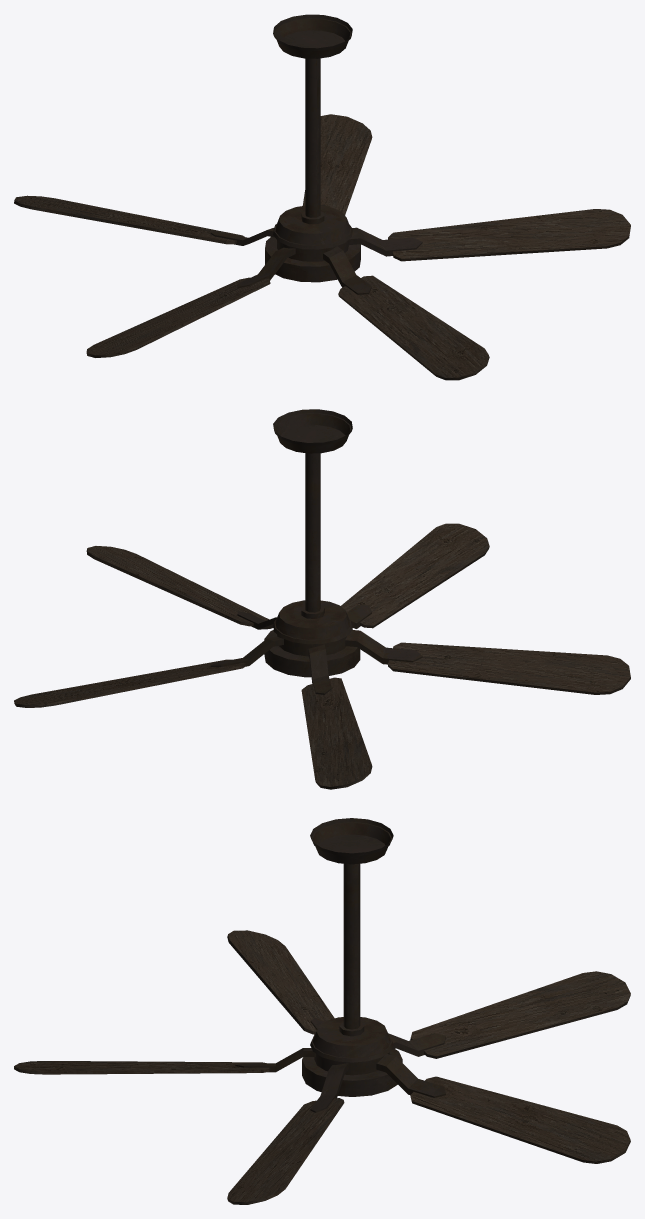
Rendered from ceiling_fan_mp_2.glb.
3 views of the same model, one above another, from view 1: azimuth 30°, elevation 25°; view 2: azimuth 150°, elevation 25°; view 3: azimuth 270°, elevation 25° (orthographic). The views are drawn at different scales.
Parts seen in each view (by area): view 1: ceiling_fan_mp_2_blades, ceiling_fan_mp_2; view 2: ceiling_fan_mp_2_blades, ceiling_fan_mp_2; view 3: ceiling_fan_mp_2_blades, ceiling_fan_mp_2.
Part boxes in pixels (<box>): ceiling_fan_mp_2_blades: <box>14,114,630,380</box>; ceiling_fan_mp_2: <box>265,14,360,282</box>; ceiling_fan_mp_2_blades: <box>14,523,630,789</box>; ceiling_fan_mp_2: <box>264,409,360,677</box>; ceiling_fan_mp_2_blades: <box>14,930,630,1204</box>; ceiling_fan_mp_2: <box>302,818,402,1096</box>.
Bounding box in the file's own units: 1.14 × 0.4915 × 1.1.
2 materials, 2 textured.
